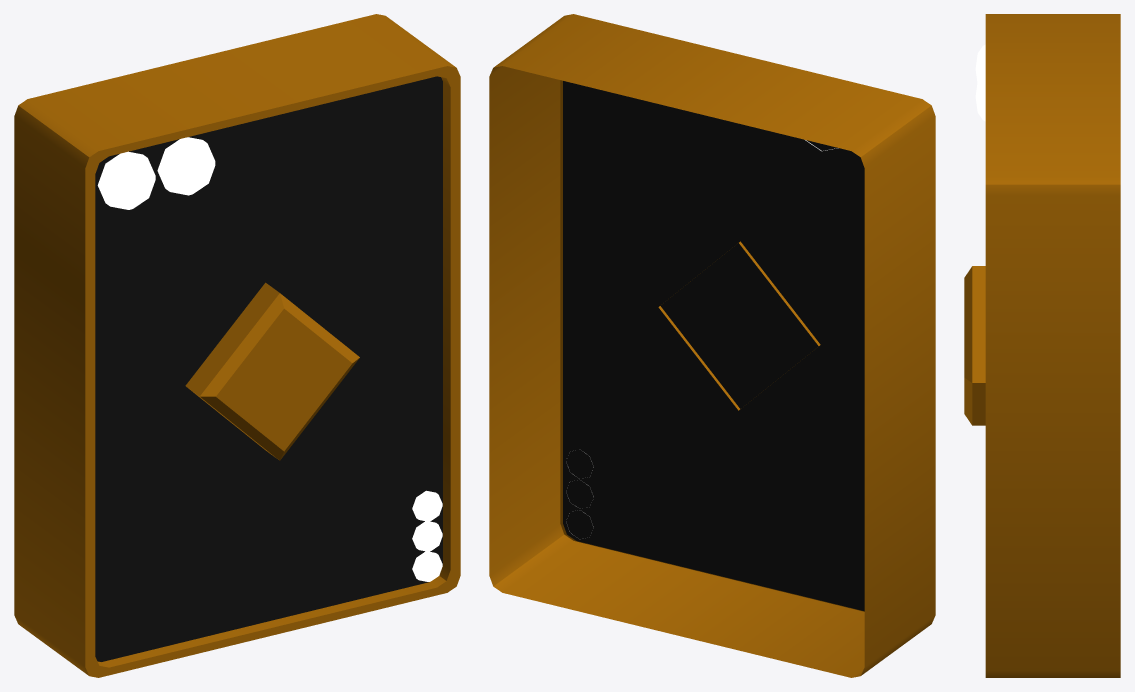
Rendered from Pipe Box.fbx.
3 renders of one model, left to right at view 1: azimuth 30°, elevation 25°; view 2: azimuth 150°, elevation 25°; view 3: azimuth 270°, elevation 25°, orthographic. The views are drawn at different scales.
Visible parts, largest first — view 1: Pipe Box; view 2: Pipe Box; view 3: Pipe Box.
Part boxes in pixels (x1,y1,x2,y2): Pipe Box: (14,14,460,677); Pipe Box: (489,14,935,677); Pipe Box: (964,14,1120,677).
Size of the model in its own units: 106 by 142 by 40.09.
